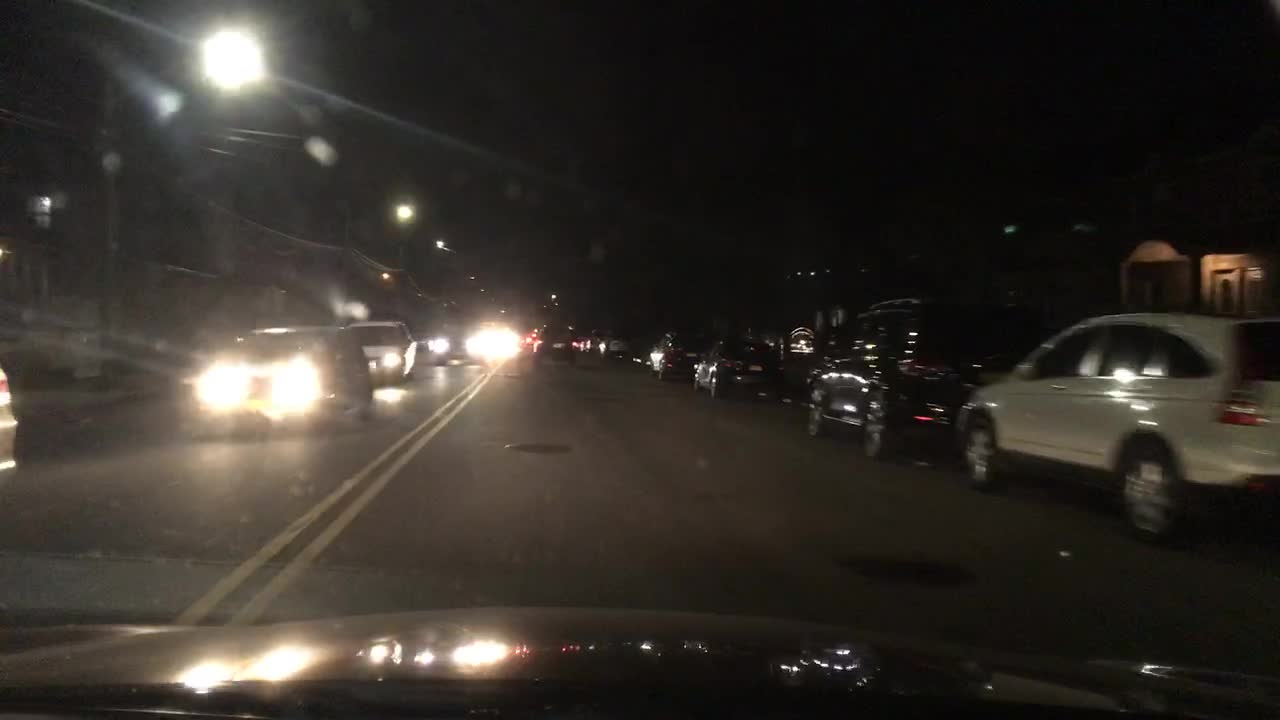car: (955, 314, 1279, 540), (800, 298, 1025, 458), (184, 325, 372, 431), (692, 337, 778, 397), (348, 320, 417, 384), (1, 360, 22, 522), (426, 321, 486, 365), (646, 331, 701, 379), (533, 321, 574, 361), (486, 325, 519, 354), (604, 338, 629, 358), (583, 335, 600, 351), (577, 337, 586, 349)
